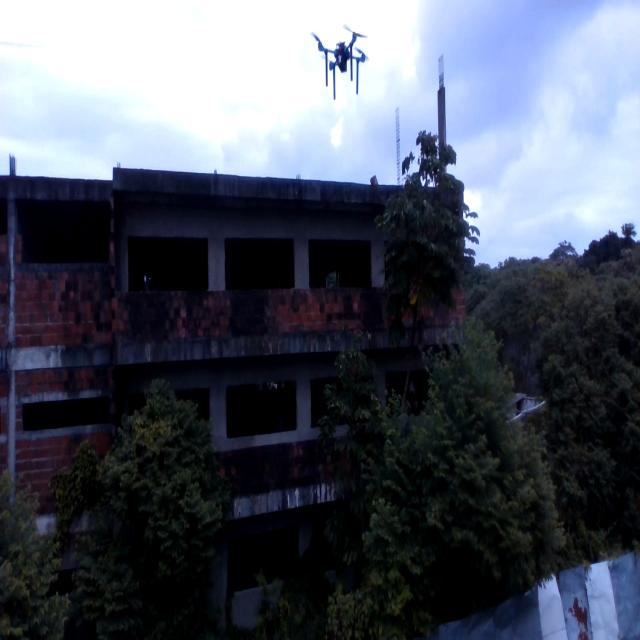-uav-: (308, 15, 370, 105)
